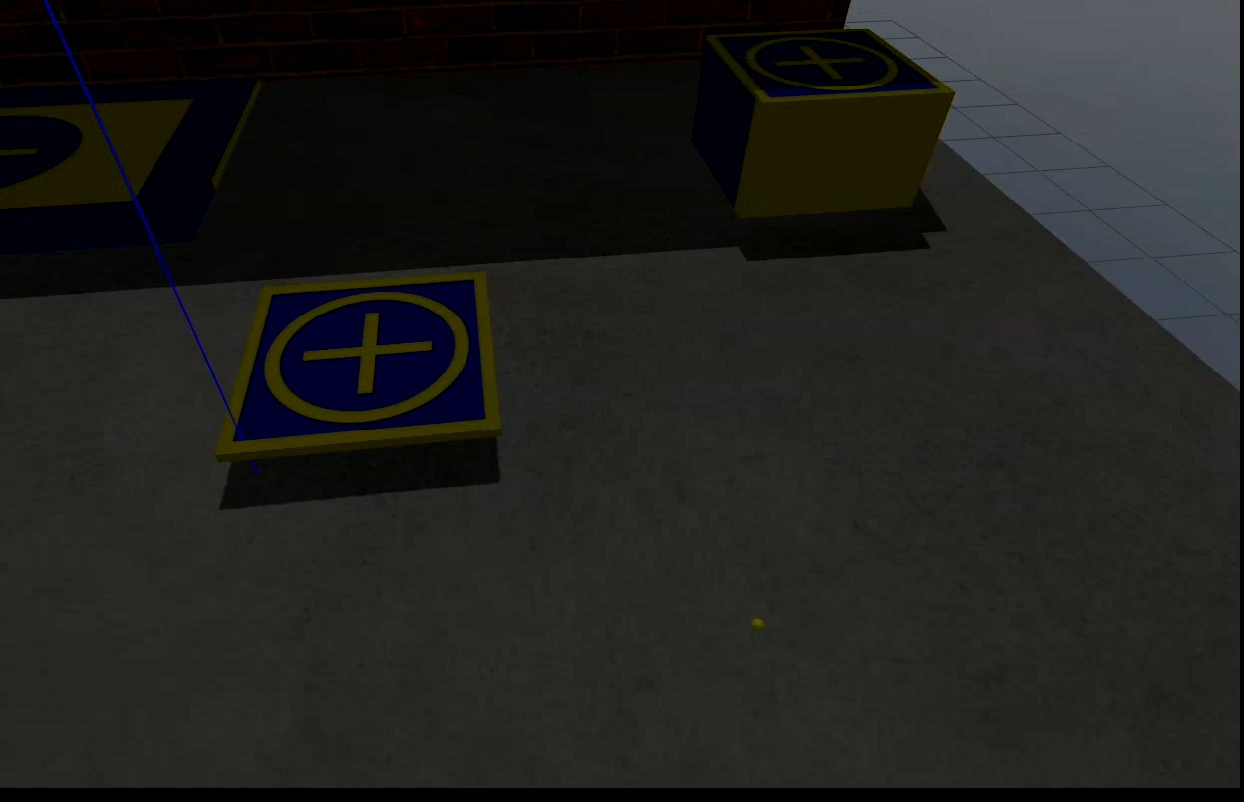large_base: (0, 77, 266, 256)
small_base: (213, 272, 505, 465), (704, 27, 958, 108)
